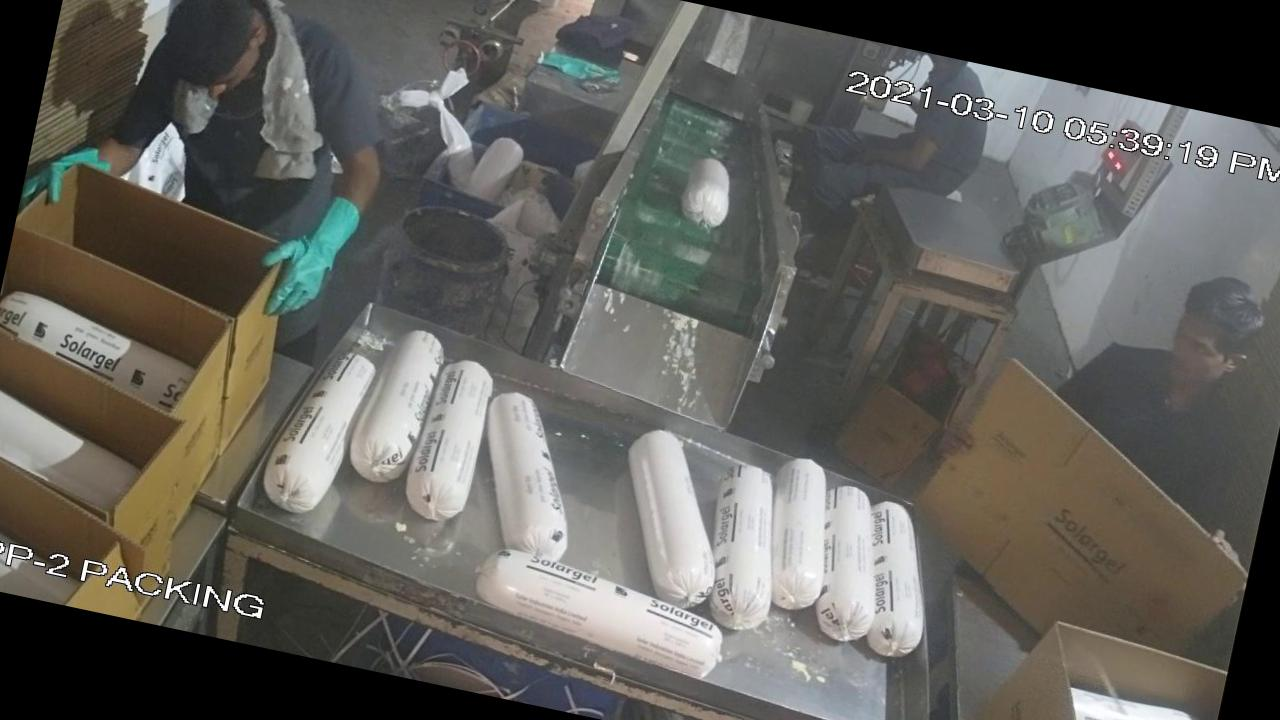Gloves: (232, 160, 394, 357)
